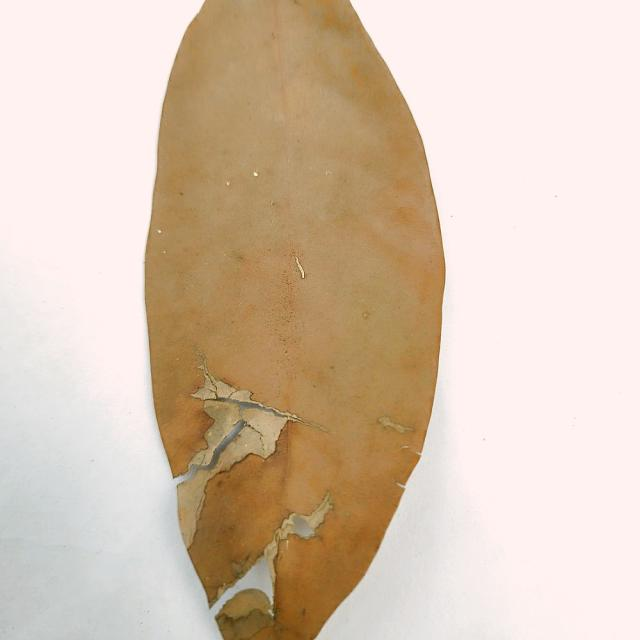Dry_Leaf-Lychee: (143, 0, 447, 639)
